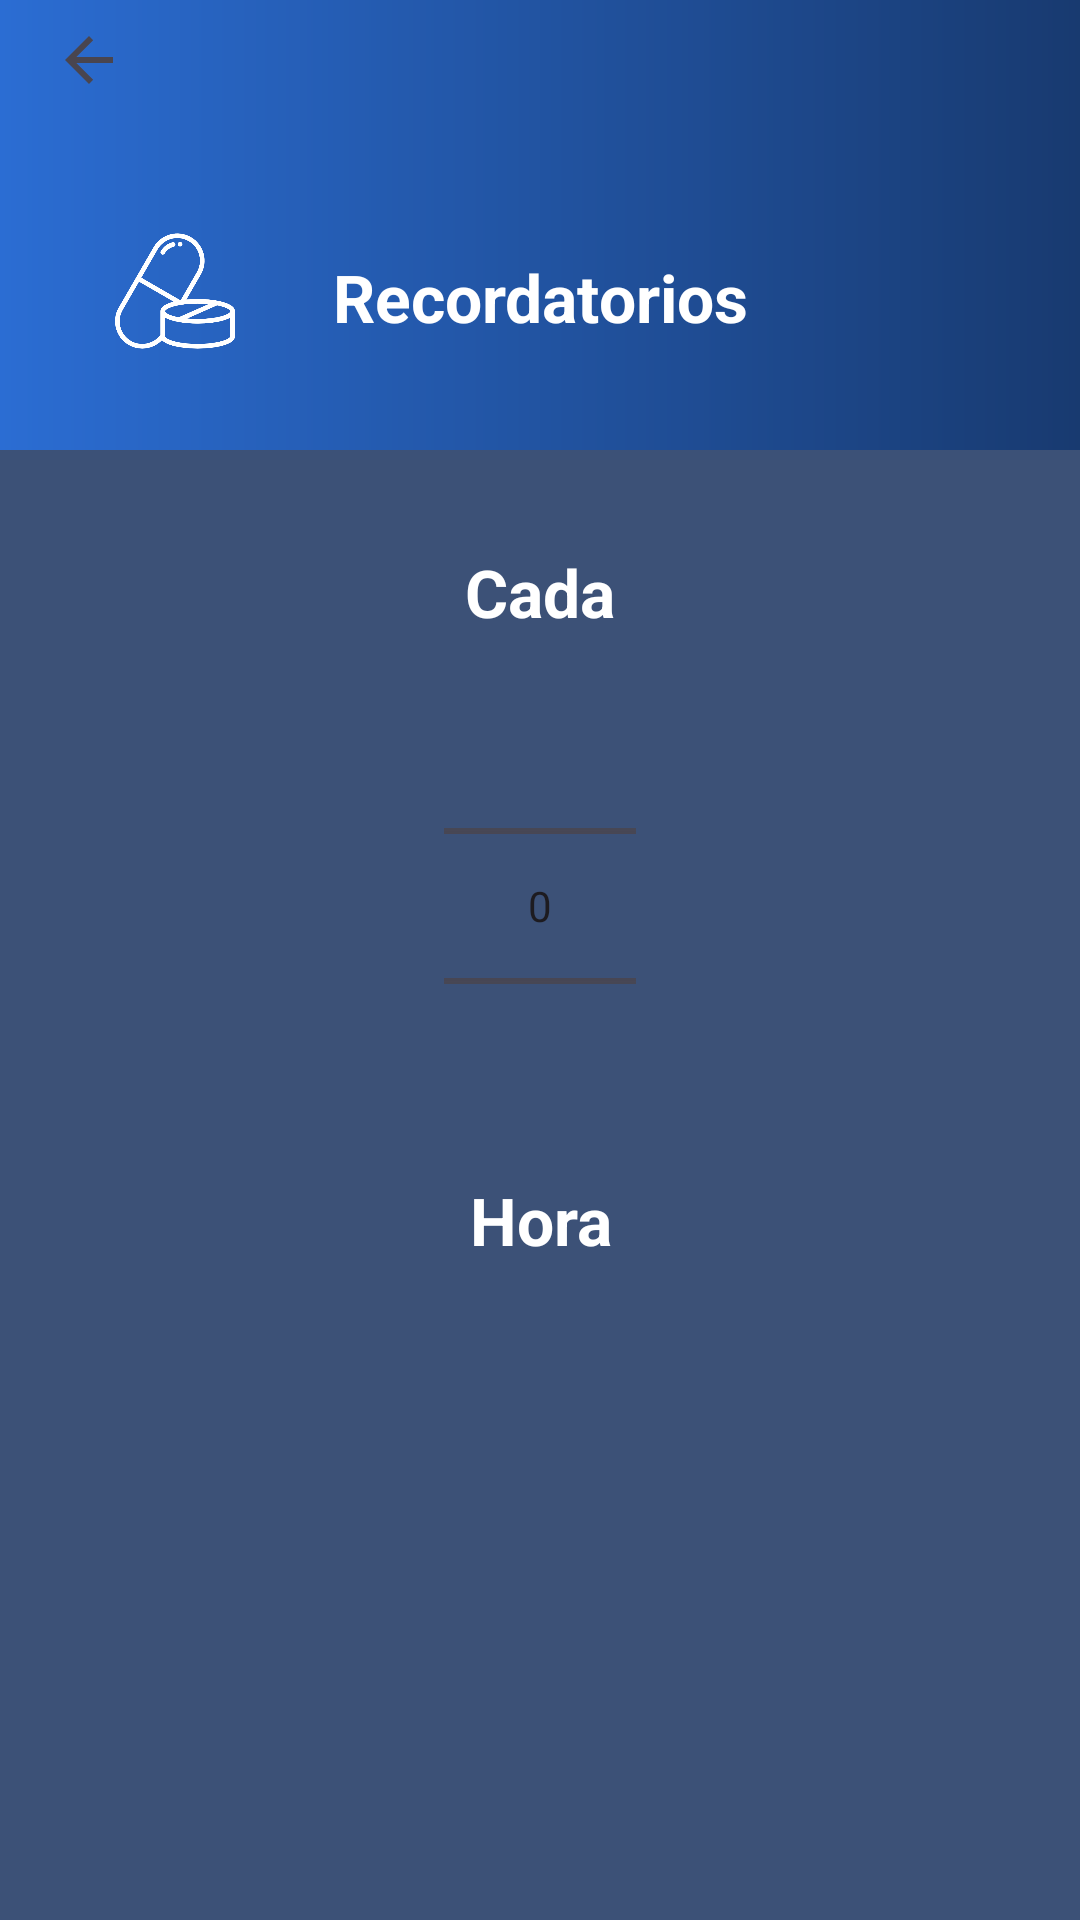

Named icons in this screenshot (1080 × 1920) and their bounding boxes, [x1=x1, y1=y1, x2=x2, y2=y2]:
medicamento: [x1=115, y1=233, x2=235, y2=349]
